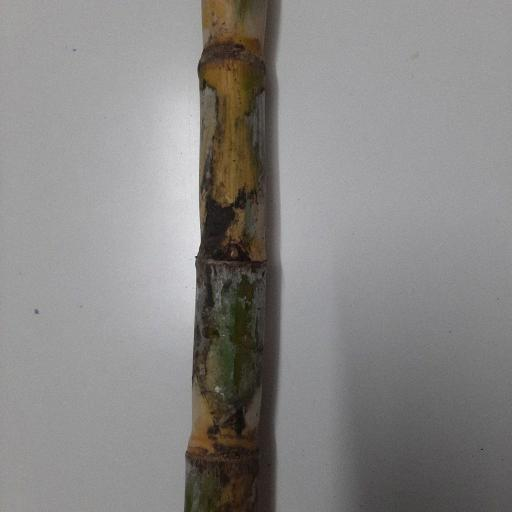Bud: (224, 240, 246, 262)
